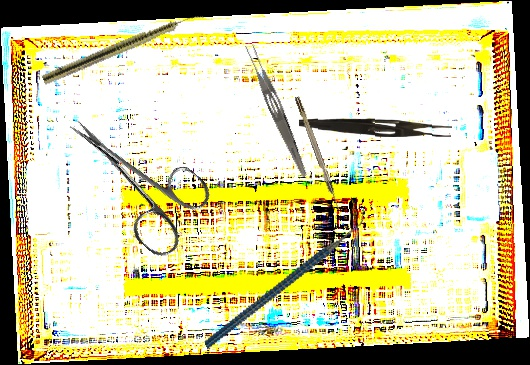Chopper: (179, 204, 391, 351)
Dressing Forceps: (241, 42, 314, 179), (298, 117, 452, 138)
Handpiece: (41, 7, 205, 88)
Hook Surgical: (294, 95, 342, 213)
Iris Scissors: (42, 91, 222, 263)
